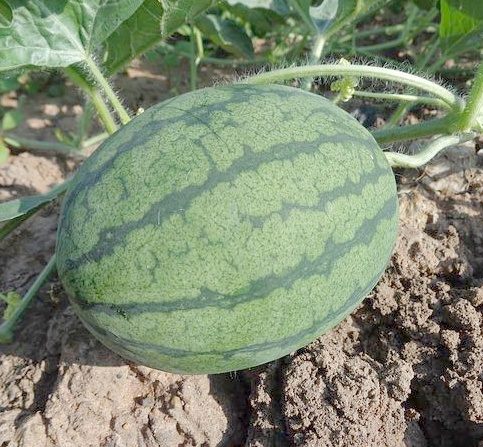watermelon: (56, 74, 396, 372)
